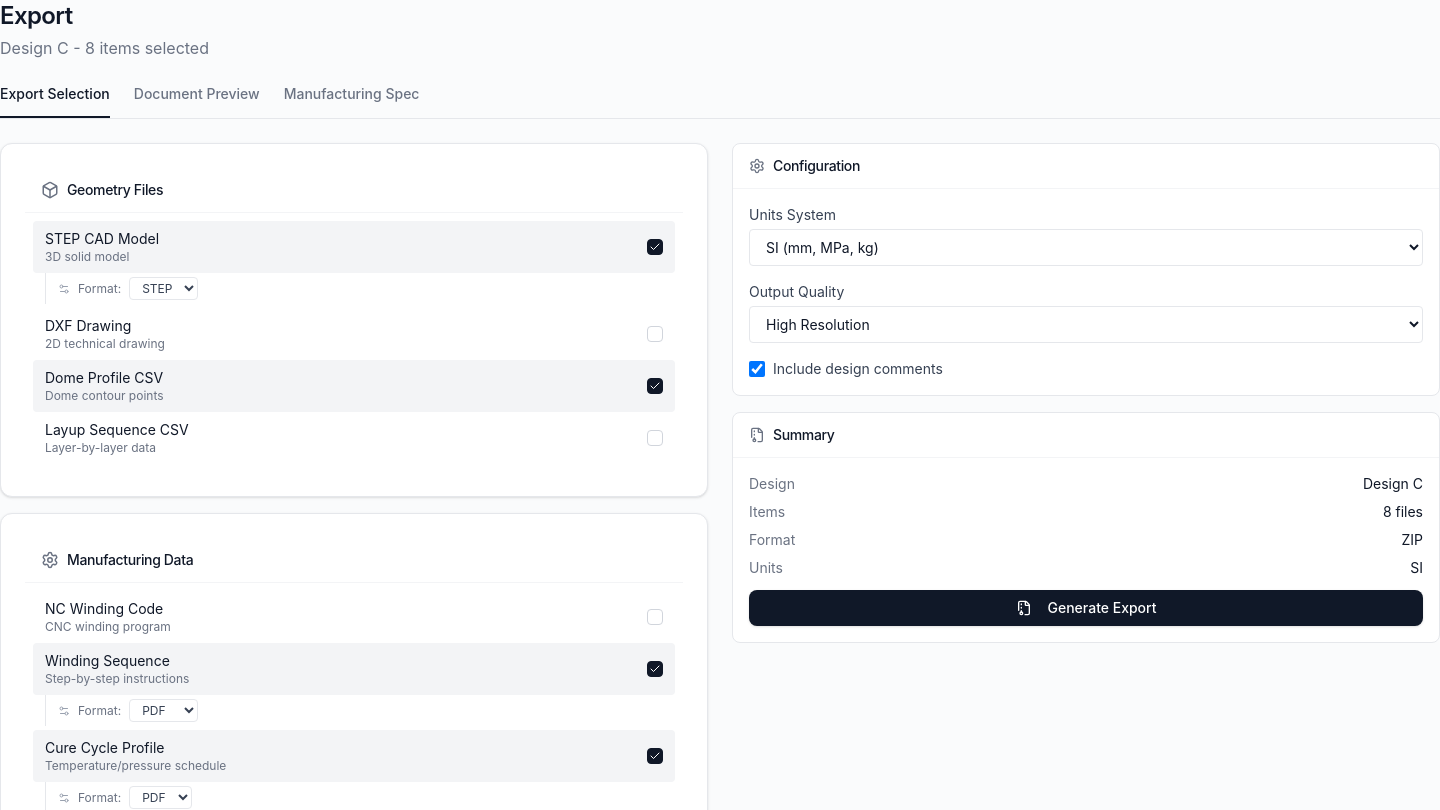
ExportScreen › Export Progress › should update progress percentage
Click the button "Generate Export" at (1086, 608), box 749,590 -> 1423,626
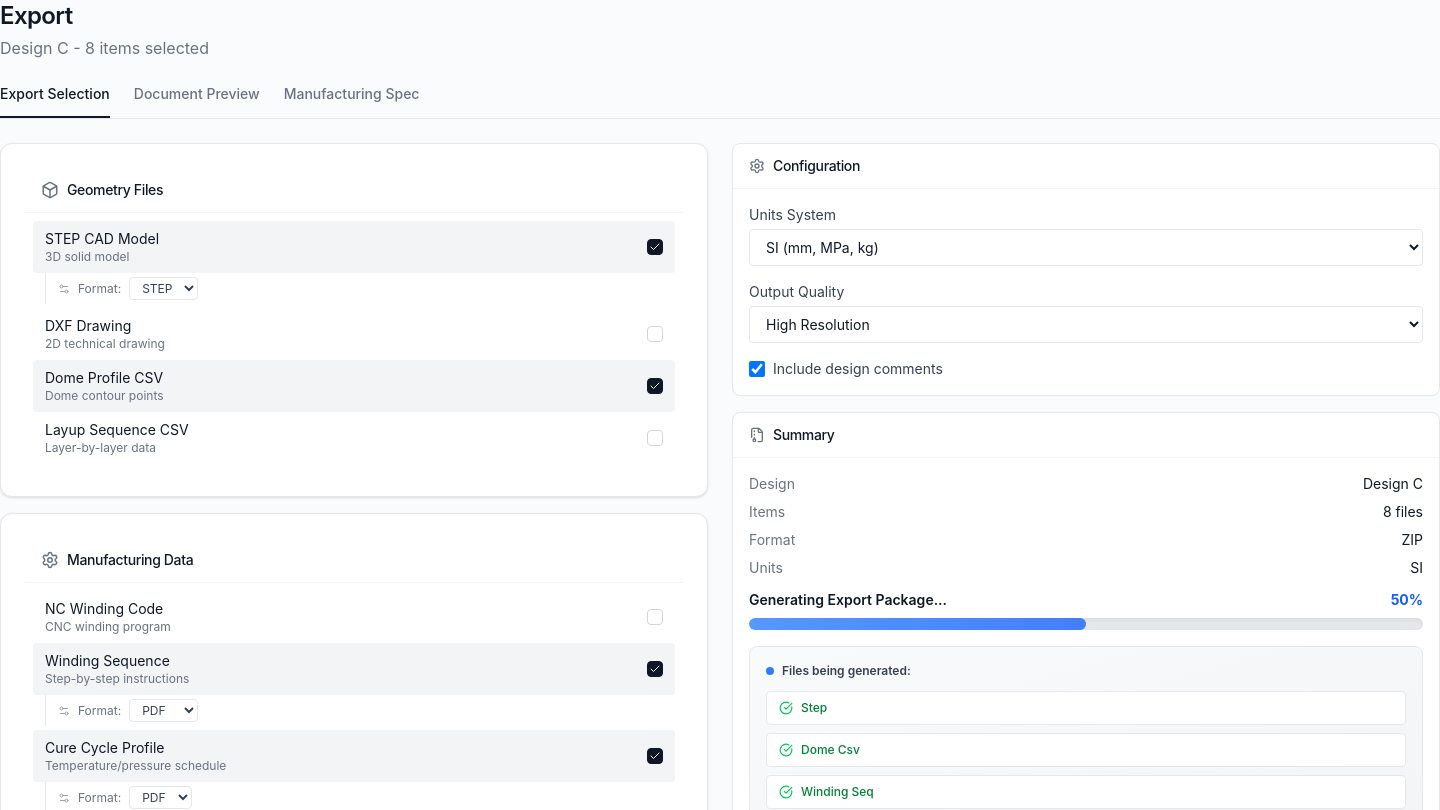
expect the text "50%" is shown: met, box 1391,590 -> 1423,610
